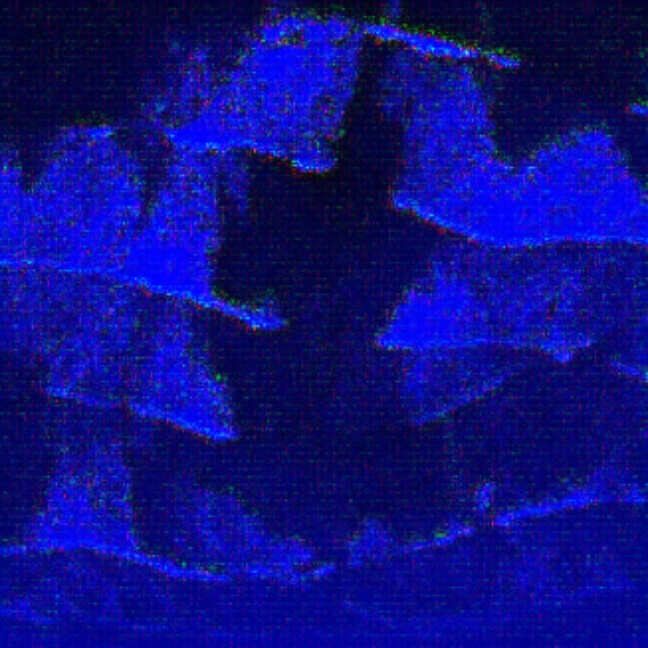rip_current: (143, 76, 538, 527)
